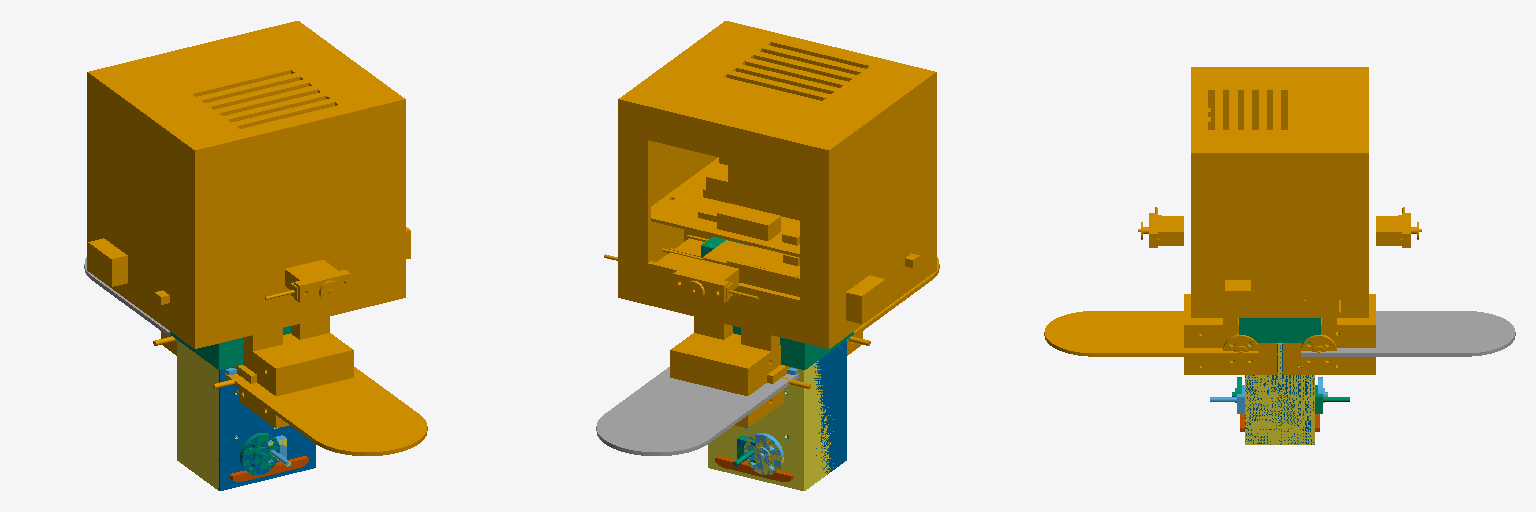
robot.urdf — lafengparrot:
<?xml version="1.0"?>
<robot name="lafengparrot">

  <!-- ============================================================
       LaFengParrot REV-B 2026-09-27, generated by make_urdf.py
       single source: kinematics.json + inertials.json
       frame: +X forward(beak), +Y parrot-left, +Z up; origin = hip plane z=0
       units: m / kg / kg*m^2 / rad / N*m / rad/s
       ============================================================ -->

  <!--
       FLOATING BASE CONVENTION:
       The root link "base_link" (CAD segment "trunk") has NO parent joint.
       This is the standard floating-base URDF:
         * PyBullet: p.loadURDF(..., useFixedBase=False) gives the 6-DOF
           free base (3 pos + 3 rot) automatically.
         * ROS: a world -> base_link floating (virtual 6-DOF) joint is
           added by the loader; URDF itself has no world joint.
  -->

  <link name="base_link">
    <visual>
      <origin xyz="0 0 0" rpy="0 0 0"/>
      <geometry>
        <mesh filename="../meshes/visual/trunk.stl"/>
      </geometry>
    </visual>
    <collision>
      <origin xyz="0 0 0" rpy="0 0 0"/>
      <geometry>
        <mesh filename="../meshes/collision/trunk_col.stl"/>
      </geometry>
    </collision>
    <inertial>
      <origin xyz="0.001038 -0.006302 0.054028" rpy="0 0 0"/>
      <mass value="0.9248"/>
      <inertia ixx="0.001816009" ixy="-1.1491e-05" ixz="6.6285e-05" iyy="0.001863494" iyz="6.0741e-05" izz="0.001415911"/>
    </inertial>
  </link>

  <link name="hip_L">
    <visual>
      <origin xyz="0 0 0" rpy="0 0 0"/>
      <geometry>
        <mesh filename="../meshes/visual/hip_L.stl"/>
      </geometry>
    </visual>
    <collision>
      <origin xyz="0 0 0" rpy="0 0 0"/>
      <geometry>
        <mesh filename="../meshes/collision/hip_L_col.stl"/>
      </geometry>
    </collision>
    <inertial>
      <origin xyz="-0.000108 -9.9e-05 -0.042" rpy="0 0 0"/>
      <mass value="0.059186"/>
      <inertia ixx="9.254e-06" ixy="1.39e-07" ixz="0" iyy="1.1712e-05" iyz="0" izz="1.5581e-05"/>
    </inertial>
  </link>

  <link name="hip_R">
    <visual>
      <origin xyz="0 0 0" rpy="0 0 0"/>
      <geometry>
        <mesh filename="../meshes/visual/hip_R.stl"/>
      </geometry>
    </visual>
    <collision>
      <origin xyz="0 0 0" rpy="0 0 0"/>
      <geometry>
        <mesh filename="../meshes/collision/hip_R_col.stl"/>
      </geometry>
    </collision>
    <inertial>
      <origin xyz="-0.000108 9.9e-05 -0.042" rpy="0 0 0"/>
      <mass value="0.059186"/>
      <inertia ixx="9.254e-06" ixy="-1.39e-07" ixz="0" iyy="1.1712e-05" iyz="-0" izz="1.5581e-05"/>
    </inertial>
  </link>

  <link name="thigh_L">
    <visual>
      <origin xyz="0 0 0" rpy="0 0 0"/>
      <geometry>
        <mesh filename="../meshes/visual/thigh_L.stl"/>
      </geometry>
    </visual>
    <collision>
      <origin xyz="0 0 0" rpy="0 0 0"/>
      <geometry>
        <mesh filename="../meshes/collision/thigh_L_col.stl"/>
      </geometry>
    </collision>
    <inertial>
      <origin xyz="-4e-05 -4.1e-05 -0.029741" rpy="0 0 0"/>
      <mass value="0.142192"/>
      <inertia ixx="6.4095e-05" ixy="1.39e-07" ixz="-7.9e-08" iyy="7.5887e-05" iyz="-6.6e-08" izz="4.7524e-05"/>
    </inertial>
  </link>

  <link name="thigh_R">
    <visual>
      <origin xyz="0 0 0" rpy="0 0 0"/>
      <geometry>
        <mesh filename="../meshes/visual/thigh_R.stl"/>
      </geometry>
    </visual>
    <collision>
      <origin xyz="0 0 0" rpy="0 0 0"/>
      <geometry>
        <mesh filename="../meshes/collision/thigh_R_col.stl"/>
      </geometry>
    </collision>
    <inertial>
      <origin xyz="-4e-05 4.1e-05 -0.029741" rpy="0 0 0"/>
      <mass value="0.142192"/>
      <inertia ixx="6.4095e-05" ixy="-1.39e-07" ixz="-7.9e-08" iyy="7.5887e-05" iyz="6.6e-08" izz="4.7524e-05"/>
    </inertial>
  </link>

  <link name="shin_L">
    <visual>
      <origin xyz="0 0 0" rpy="0 0 0"/>
      <geometry>
        <mesh filename="../meshes/visual/shin_L.stl"/>
      </geometry>
    </visual>
    <collision>
      <origin xyz="0 0 0" rpy="0 0 0"/>
      <geometry>
        <mesh filename="../meshes/collision/shin_L_col.stl"/>
      </geometry>
    </collision>
    <collision>
      <origin xyz="0 0 -0.054" rpy="0 0 0"/>
      <geometry>
        <!-- 40x44x4 mm sole contact geom, flat on ground in zero pose -->
        <box size="0.020 0.022 0.002"/>
      </geometry>
    </collision>
    <inertial>
      <origin xyz="0 -0 -0.036022" rpy="0 0 0"/>
      <mass value="0.020543"/>
      <inertia ixx="8.564e-06" ixy="-0" ixz="-0" iyy="8.537e-06" iyz="0" izz="2.966e-06"/>
    </inertial>
  </link>

  <link name="shin_R">
    <visual>
      <origin xyz="0 0 0" rpy="0 0 0"/>
      <geometry>
        <mesh filename="../meshes/visual/shin_R.stl"/>
      </geometry>
    </visual>
    <collision>
      <origin xyz="0 0 0" rpy="0 0 0"/>
      <geometry>
        <mesh filename="../meshes/collision/shin_R_col.stl"/>
      </geometry>
    </collision>
    <collision>
      <origin xyz="0 0 -0.054" rpy="0 0 0"/>
      <geometry>
        <!-- 40x44x4 mm sole contact geom, flat on ground in zero pose -->
        <box size="0.020 0.022 0.002"/>
      </geometry>
    </collision>
    <inertial>
      <origin xyz="0 -0 -0.036022" rpy="0 0 0"/>
      <mass value="0.020543"/>
      <inertia ixx="8.564e-06" ixy="-0" ixz="-0" iyy="8.537e-06" iyz="0" izz="2.966e-06"/>
    </inertial>
  </link>

  <link name="wing_L">
    <visual>
      <origin xyz="0 0 0" rpy="0 0 0"/>
      <geometry>
        <mesh filename="../meshes/visual/wing_L.stl"/>
      </geometry>
    </visual>
    <collision>
      <origin xyz="0 0 0" rpy="0 0 0"/>
      <geometry>
        <mesh filename="../meshes/collision/wing_L_col.stl"/>
      </geometry>
    </collision>
    <inertial>
      <origin xyz="0.0041 0.055225 -0" rpy="0 0 0"/>
      <mass value="0.020453"/>
      <inertia ixx="2.9438e-05" ixy="-9.45e-07" ixz="-0" iyy="4.088e-06" iyz="-0" izz="3.3386e-05"/>
    </inertial>
  </link>

  <link name="wing_R">
    <visual>
      <origin xyz="0 0 0" rpy="0 0 0"/>
      <geometry>
        <mesh filename="../meshes/visual/wing_R.stl"/>
      </geometry>
    </visual>
    <collision>
      <origin xyz="0 0 0" rpy="0 0 0"/>
      <geometry>
        <mesh filename="../meshes/collision/wing_R_col.stl"/>
      </geometry>
    </collision>
    <inertial>
      <origin xyz="0.0041 -0.055225 0" rpy="0 0 0"/>
      <mass value="0.020453"/>
      <inertia ixx="2.9438e-05" ixy="9.45e-07" ixz="0" iyy="4.088e-06" iyz="-0" izz="3.3386e-05"/>
    </inertial>
  </link>

  <link name="neck_yaw">
    <visual>
      <origin xyz="0 0 0" rpy="0 0 0"/>
      <geometry>
        <mesh filename="../meshes/visual/neck_yaw.stl"/>
      </geometry>
    </visual>
    <collision>
      <origin xyz="0 0 0" rpy="0 0 0"/>
      <geometry>
        <mesh filename="../meshes/collision/neck_yaw_col.stl"/>
      </geometry>
    </collision>
    <inertial>
      <origin xyz="-0.000157 0.000234 0.026486" rpy="0 0 0"/>
      <mass value="0.03411"/>
      <inertia ixx="1.5013e-05" ixy="1.2e-08" ixz="4.2e-08" iyy="1.5595e-05" iyz="-1.89e-07" izz="3.982e-06"/>
    </inertial>
  </link>

  <link name="head">
    <visual>
      <origin xyz="0 0 0" rpy="0 0 0"/>
      <geometry>
        <mesh filename="../meshes/visual/head.stl"/>
      </geometry>
    </visual>
    <collision>
      <origin xyz="0 0 0" rpy="0 0 0"/>
      <geometry>
        <mesh filename="../meshes/collision/head_col.stl"/>
      </geometry>
    </collision>
    <inertial>
      <origin xyz="0.003175 0 0.030144" rpy="0 0 0"/>
      <mass value="0.040901"/>
      <inertia ixx="2.0722e-05" ixy="-0" ixz="-1.108e-06" iyy="3.0039e-05" iyz="-0" izz="2.5399e-05"/>
    </inertial>
  </link>

  <joint name="hip_roll_L" type="revolute">
    <parent link="base_link"/>
    <child link="hip_L"/>
    <origin xyz="0 0.027 0" rpy="0 0 0"/>
    <axis xyz="1 0 0"/>
    <limit lower="-0.3839724354" upper="0.3839724354" effort="2.72" velocity="5.235987756"/>
  </joint>

  <joint name="hip_roll_R" type="revolute">
    <parent link="base_link"/>
    <child link="hip_R"/>
    <origin xyz="0 -0.027 0" rpy="0 0 0"/>
    <axis xyz="1 0 0"/>
    <limit lower="-0.3839724354" upper="0.3839724354" effort="2.72" velocity="5.235987756"/>
  </joint>

  <joint name="hip_pitch_L" type="revolute">
    <parent link="hip_L"/>
    <child link="thigh_L"/>
    <origin xyz="0 0 -0.042" rpy="0 0 0"/>
    <axis xyz="0 1 0"/>
    <limit lower="-1.570796327" upper="1.570796327" effort="2.72" velocity="5.235987756"/>
  </joint>

  <joint name="hip_pitch_R" type="revolute">
    <parent link="hip_R"/>
    <child link="thigh_R"/>
    <origin xyz="0 0 -0.042" rpy="0 0 0"/>
    <axis xyz="0 1 0"/>
    <limit lower="-1.570796327" upper="1.570796327" effort="2.72" velocity="5.235987756"/>
  </joint>

  <joint name="knee_L" type="revolute">
    <parent link="thigh_L"/>
    <child link="shin_L"/>
    <origin xyz="0 0 -0.042" rpy="0 0 0"/>
    <axis xyz="0 1 0"/>
    <limit lower="0" upper="2.617993878" effort="2.72" velocity="5.235987756"/>
  </joint>

  <joint name="knee_R" type="revolute">
    <parent link="thigh_R"/>
    <child link="shin_R"/>
    <origin xyz="0 0 -0.042" rpy="0 0 0"/>
    <axis xyz="0 1 0"/>
    <limit lower="0" upper="2.617993878" effort="2.72" velocity="5.235987756"/>
  </joint>

  <joint name="wing_flap_L" type="revolute">
    <parent link="base_link"/>
    <child link="wing_L"/>
    <origin xyz="0 0.062 0.06" rpy="0 0 0"/>
    <axis xyz="0 1 0"/>
    <limit lower="-0.7853981634" upper="0.7853981634" effort="0.22" velocity="5.235987756"/>
  </joint>

  <joint name="wing_flap_R" type="revolute">
    <parent link="base_link"/>
    <child link="wing_R"/>
    <origin xyz="0 -0.062 0.06" rpy="0 0 0"/>
    <axis xyz="0 1 0"/>
    <limit lower="-0.7853981634" upper="0.7853981634" effort="0.22" velocity="5.235987756"/>
  </joint>

  <joint name="neck_yaw" type="revolute">
    <parent link="base_link"/>
    <child link="neck_yaw"/>
    <origin xyz="0 0 0.133" rpy="0 0 0"/>
    <axis xyz="0 0 1"/>
    <limit lower="-1.570796327" upper="1.570796327" effort="0.22" velocity="5.235987756"/>
  </joint>

  <joint name="neck_pitch" type="revolute">
    <parent link="neck_yaw"/>
    <child link="head"/>
    <origin xyz="0 0 0.052" rpy="0 0 0"/>
    <axis xyz="0 1 0"/>
    <limit lower="-0.7853981634" upper="0.7853981634" effort="0.22" velocity="5.235987756"/>
  </joint>

</robot>

--- Facts derived from the render (not from the file) ---
Views: 3 orthographic renders of the robot side by side, from view 1: azimuth 30°, elevation 25°; view 2: azimuth 150°, elevation 25°; view 3: azimuth 270°, elevation 25°.
Robot: lafengparrot — 11 links, 10 joints (10 revolute); root link base_link; default pose: every joint at zero.
Links seen in each view (by area): view 1: base_link, wing_R, thigh_L, thigh_R, head, hip_R, shin_L, wing_L; view 2: base_link, wing_L, thigh_L, thigh_R, head, hip_L, shin_L, wing_R; view 3: base_link, wing_L, wing_R, thigh_L, head, thigh_R.
Boxes of the visible links, x1,y1,x2,y2 form: base_link: (87,21,410,427); wing_R: (225,367,427,455); thigh_L: (177,340,290,490); thigh_R: (218,367,315,490); head: (170,326,290,369); hip_R: (235,433,279,474); shin_L: (230,456,308,481); wing_L: (84,257,176,341); base_link: (604,21,936,427); wing_L: (596,367,798,455); thigh_L: (708,361,833,490); thigh_R: (733,340,846,474); head: (701,237,853,369); hip_L: (744,433,788,474); shin_L: (715,456,793,481); wing_R: (847,257,939,341); base_link: (1138,67,1421,374); wing_L: (1301,311,1515,356); wing_R: (1044,311,1258,356); thigh_L: (1210,343,1327,444); head: (1239,318,1320,342); thigh_R: (1232,344,1349,444).
Bounding box of the posed robot: 136 × 258 × 191 m (x, y, z).
10 mesh visuals loaded from 11 distinct referenced files (10 binary STL); not drawn: 1 (reference not matched to a file when rendering).
